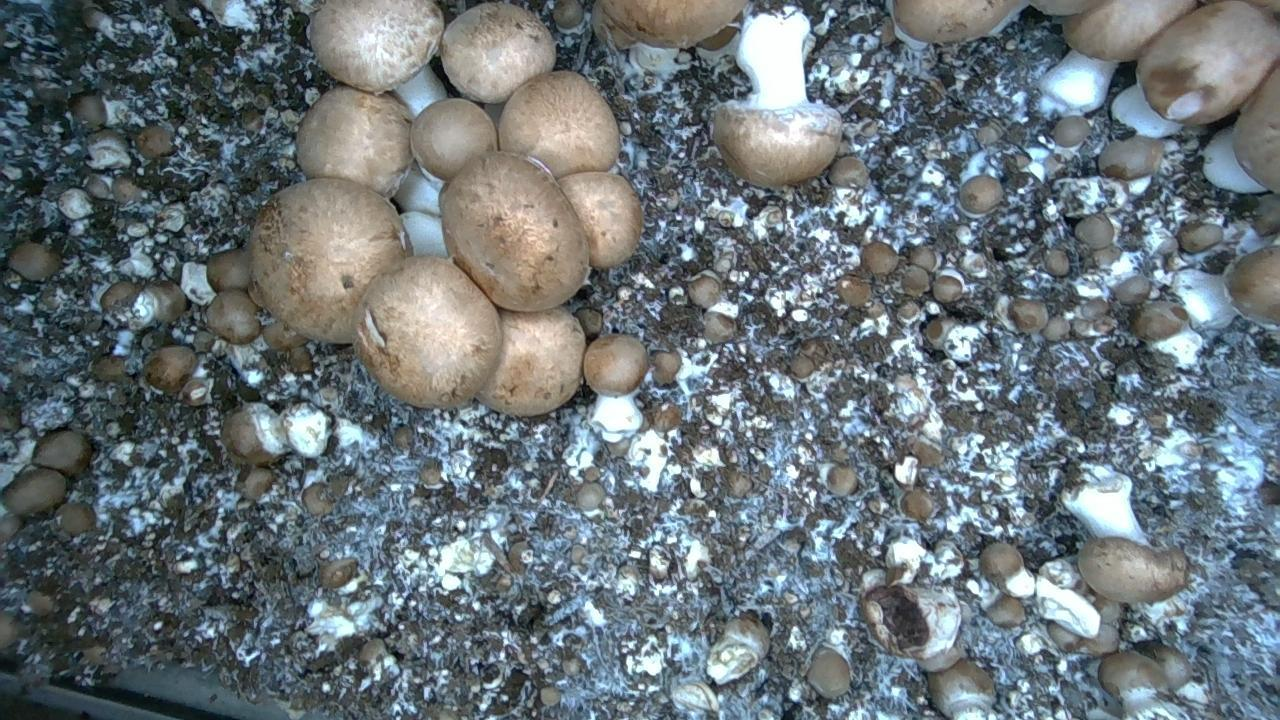BB: (249, 178, 410, 342), (441, 151, 589, 311), (353, 256, 501, 407), (1137, 0, 1279, 124), (296, 86, 412, 198), (498, 71, 619, 177), (310, 0, 443, 92), (477, 308, 584, 415), (440, 3, 555, 102), (714, 100, 843, 187), (558, 172, 643, 268), (1063, 0, 1196, 61), (1077, 537, 1187, 603), (410, 98, 497, 180), (601, 0, 746, 47), (1233, 66, 1279, 192), (894, 0, 1022, 42), (1226, 245, 1279, 324), (928, 659, 995, 719), (583, 334, 648, 395), (1098, 651, 1167, 697), (3, 468, 65, 516), (206, 290, 260, 343), (1098, 135, 1163, 179), (1136, 641, 1192, 690), (33, 430, 92, 475), (144, 346, 197, 392), (1131, 301, 1188, 342), (807, 646, 849, 698), (9, 242, 61, 280), (207, 249, 249, 291), (959, 175, 1002, 214), (1074, 213, 1113, 248), (985, 594, 1025, 628), (1008, 298, 1048, 332), (135, 125, 174, 159), (861, 241, 899, 275), (1178, 223, 1222, 252), (238, 467, 275, 500), (57, 503, 95, 535), (1051, 116, 1090, 147), (1112, 274, 1151, 305), (829, 156, 867, 187), (1029, 0, 1101, 16), (1253, 193, 1279, 235), (688, 274, 720, 308), (836, 275, 871, 306), (91, 354, 125, 381), (653, 352, 681, 384), (575, 482, 605, 511), (932, 275, 963, 302), (1041, 315, 1070, 341), (84, 174, 112, 199), (726, 470, 751, 497), (1045, 250, 1069, 275), (539, 685, 560, 706)
